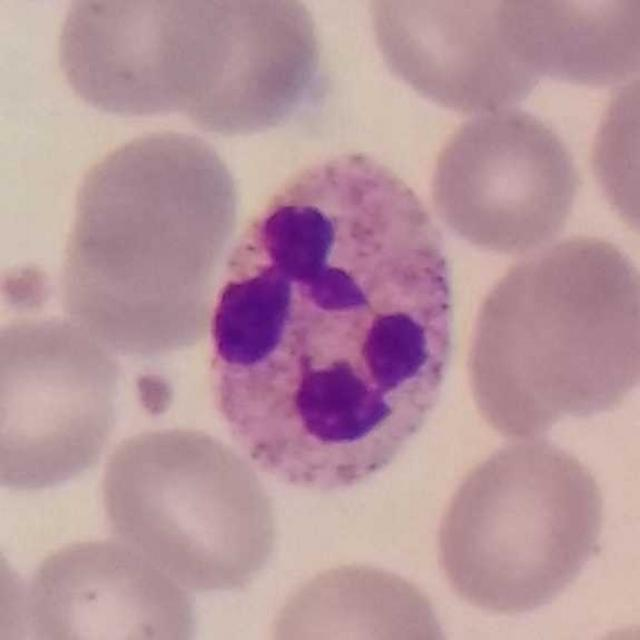Neutrophil: (210, 146, 453, 489)
